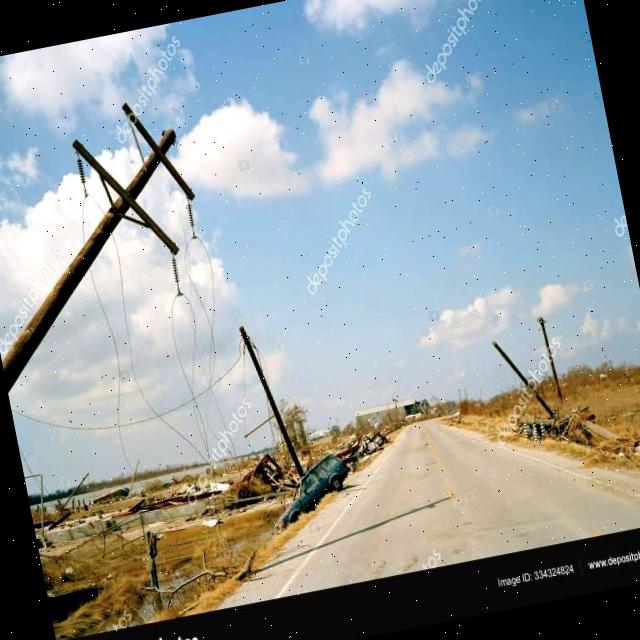Broken Pole: (2, 102, 197, 394), (239, 326, 304, 477), (492, 340, 554, 417), (515, 406, 621, 445)
